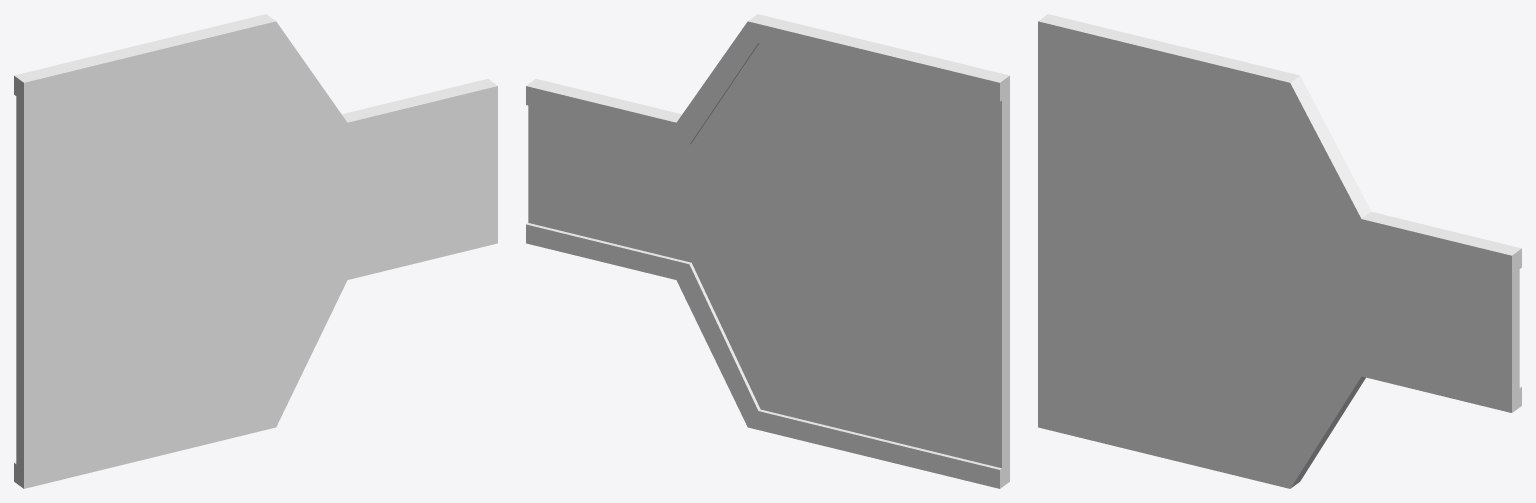
The model's file is venice_road_8.fbx.
3 views of the same model, side by side, from view 1: azimuth 30°, elevation 25°; view 2: azimuth 150°, elevation 25°; view 3: azimuth 330°, elevation 25° (orthographic).
Parts seen in each view (by area): view 1: Cube.289; view 2: Cube.289; view 3: Cube.289.
Boxes of the visible parts, x1,y1,x2,y2 form: Cube.289: [14, 14, 497, 488]; Cube.289: [526, 14, 1009, 488]; Cube.289: [1038, 14, 1521, 488].
Size of the model in its own units: 1734 by 1420 by 63.5.
